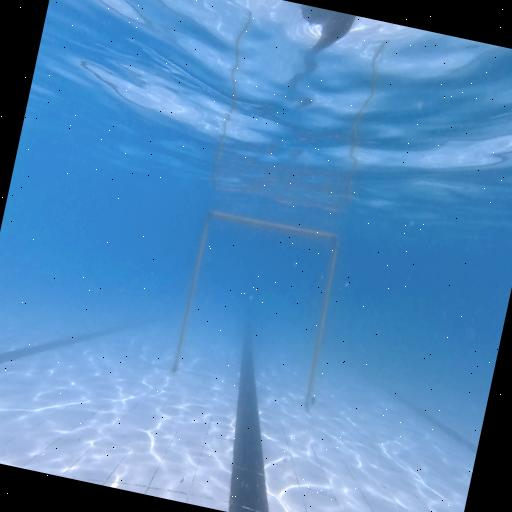gate: (170, 206, 350, 406)
